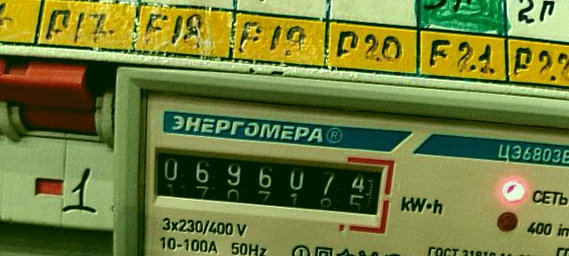0: (160, 155, 182, 182), (287, 165, 307, 192)
4: (349, 170, 367, 193)
5: (347, 192, 365, 214)
6: (255, 161, 276, 190), (192, 157, 213, 184)
7: (319, 169, 337, 196)
9: (224, 159, 243, 187)
screen: (139, 134, 399, 238)
